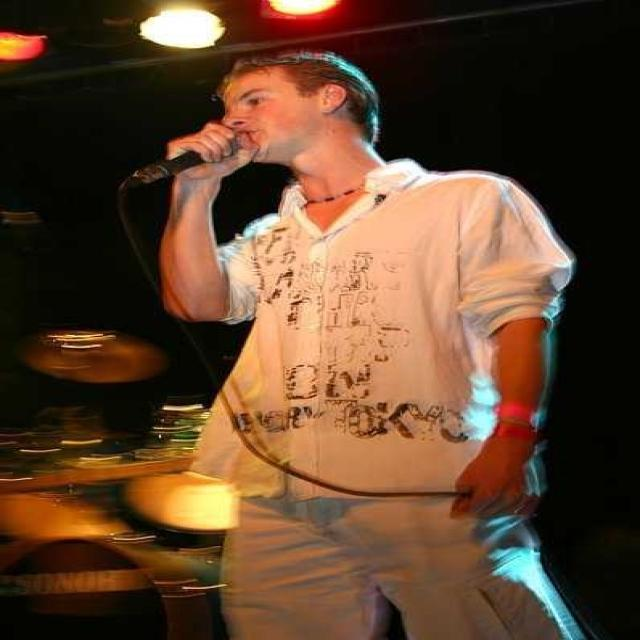microphone: (132, 128, 238, 188)
